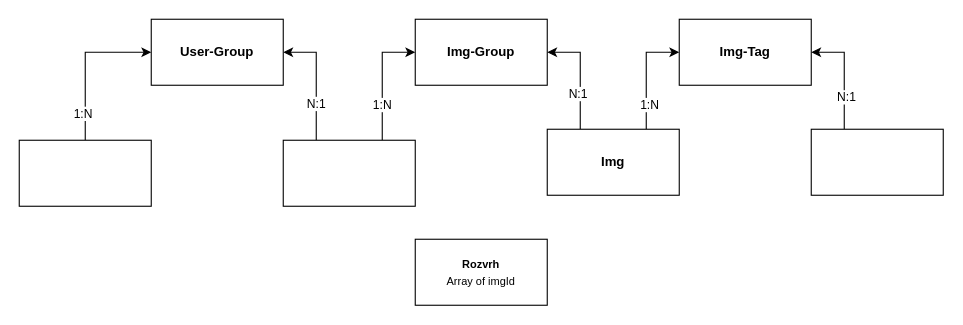
Some shapes in this 963 by 325 pixel diagram are drawn without their labels. The box of each missing label's shape, as (x1, y1, x2, y2) in pixels:
Group: (282, 139, 415, 206)
Tag: (810, 128, 943, 195)
User: (18, 139, 151, 206)
